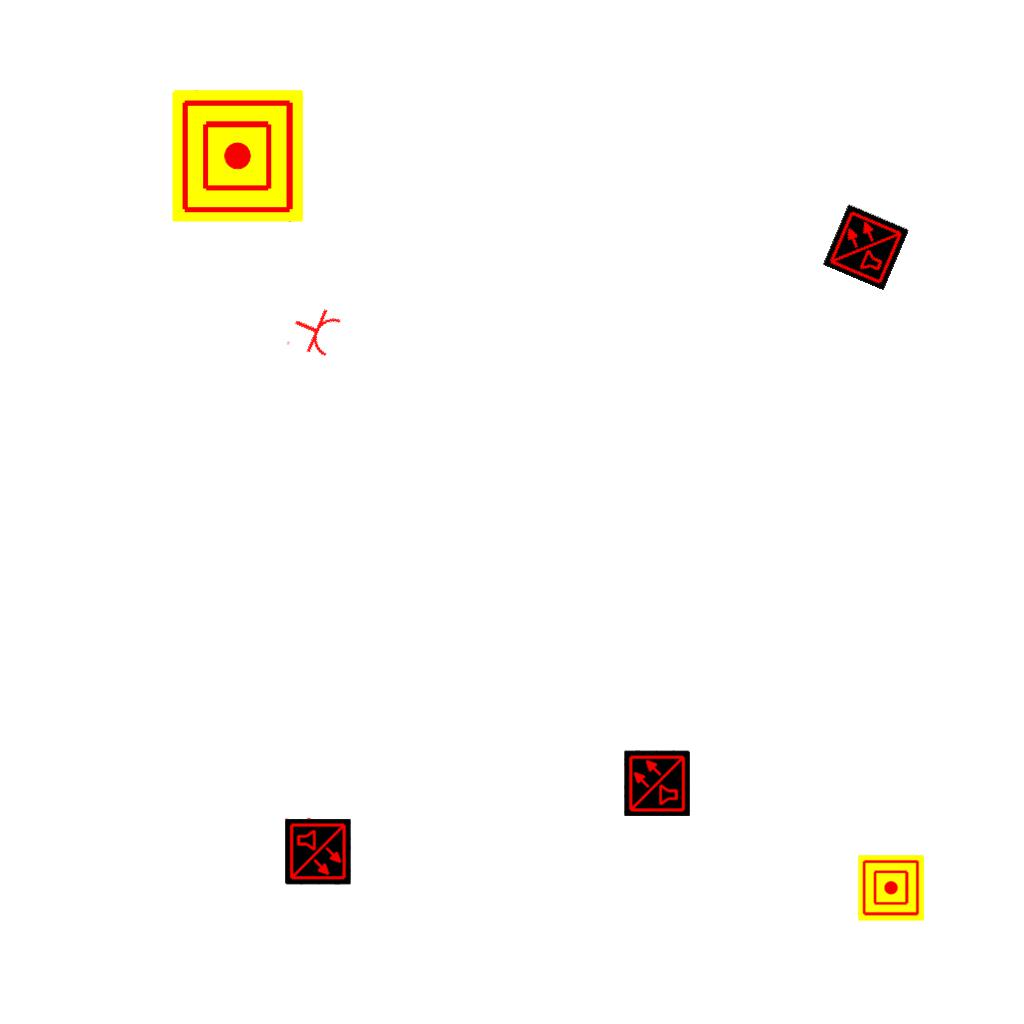NAM-Nichtautomatischer_Melder: (172, 90, 304, 222), (858, 855, 924, 921)
OKW_Multisensormelder_(Kombination_optischer_Rauch-Kahlenmonoxid_Waerme-Melder): (822, 203, 910, 291), (624, 750, 690, 816), (285, 819, 351, 885)
Schukosteckdose_einfach: (284, 299, 345, 363), (283, 817, 333, 860)
